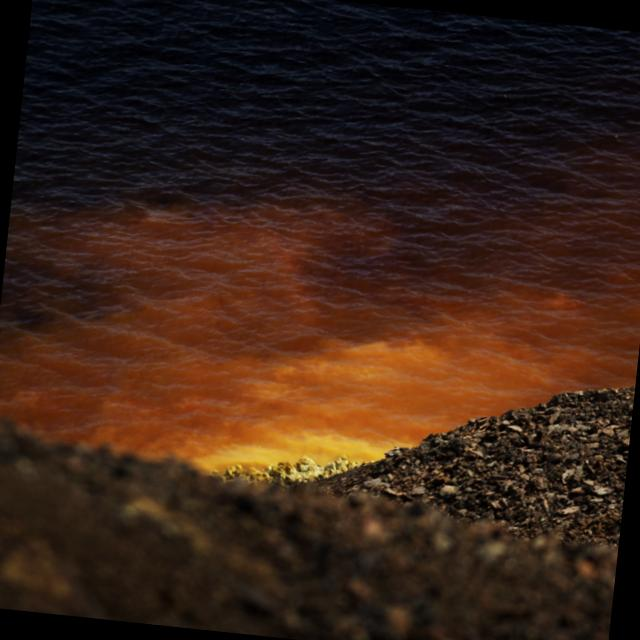yellow_boy: (0, 205, 640, 468)
